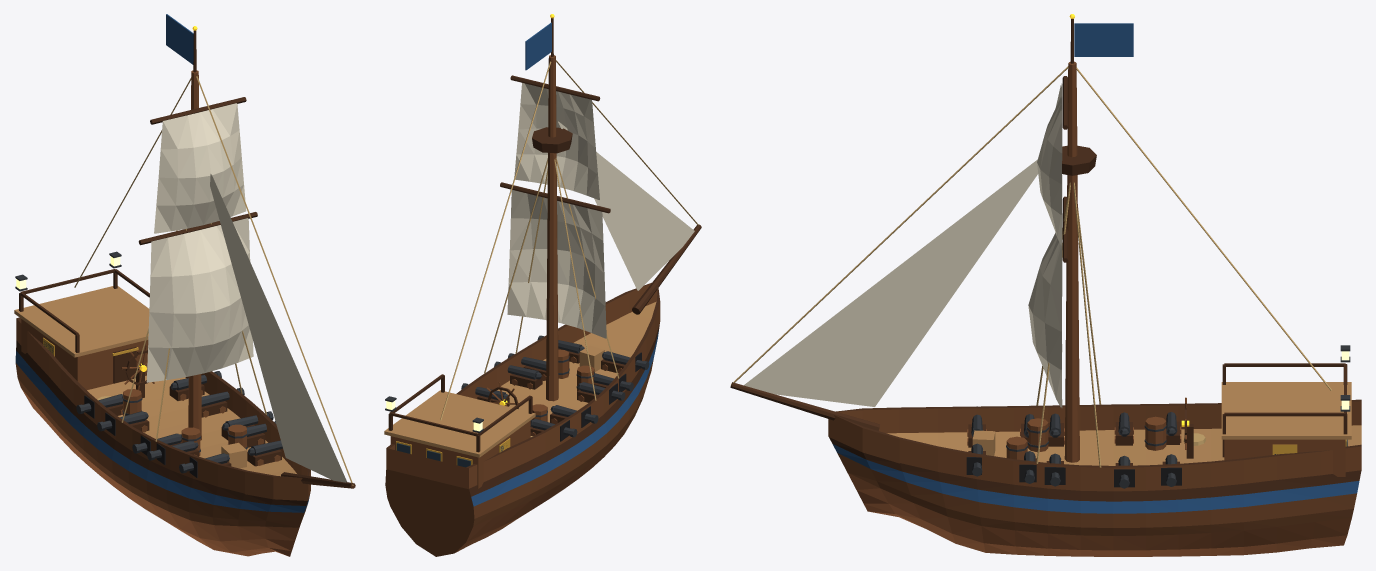
File: Ship_Player.fbx
The picture shows the model from 3 angles, left to right: view 1: azimuth 30°, elevation 25°; view 2: azimuth 150°, elevation 25°; view 3: azimuth 270°, elevation 25°; orthographic projection. The views are drawn at different scales.
Parts seen in each view (by area): view 1: Hull, Sail_1_1, Sail_1_2, Sail_Jib, Rigging, Flag, CannonGun_L_5, CannonGun_R_2, CannonGun_L_2, CannonGun_R_1, CannonGun_L_1, CannonGun_R_4 (+3 smaller); view 2: Hull, Sail_1_1, Rigging, Sail_Jib, Sail_1_2, Flag, CannonGun_L_3, CannonGun_R_5, CannonGun_R_3, CannonGun_R_2, CannonGun_R_1, CannonGun_R_4; view 3: Hull, Sail_Jib, Rigging, Sail_1_1, Sail_1_2, Flag.
Part boxes in pixels (x1,y1,x2,y2): Hull: (14, 251, 310, 556); Sail_1_1: (146, 218, 253, 382); Sail_1_2: (154, 103, 246, 233); Sail_Jib: (210, 174, 346, 482); Rigging: (74, 70, 355, 488); Flag: (166, 14, 197, 72); CannonGun_L_5: (247, 440, 282, 466); CannonGun_R_2: (97, 411, 149, 435); CannonGun_L_2: (201, 387, 244, 417); CannonGun_R_1: (76, 394, 122, 418); CannonGun_L_1: (169, 371, 221, 400); CannonGun_R_4: (147, 441, 198, 464); Hull: (384, 282, 660, 556); Sail_1_1: (507, 190, 606, 338); Rigging: (440, 55, 701, 420); Sail_Jib: (558, 121, 694, 290); Sail_1_2: (514, 83, 599, 199); Flag: (525, 14, 554, 70); CannonGun_L_3: (494, 361, 542, 389); CannonGun_R_5: (601, 351, 649, 373); CannonGun_R_3: (577, 382, 625, 404); CannonGun_R_2: (550, 405, 598, 427); CannonGun_R_1: (530, 419, 577, 441); CannonGun_R_4: (593, 373, 633, 391); Hull: (828, 345, 1361, 556); Sail_Jib: (744, 159, 1038, 406); Rigging: (730, 61, 1331, 467); Sail_1_1: (1028, 213, 1062, 407); Sail_1_2: (1037, 83, 1062, 245); Flag: (1069, 14, 1133, 63).
Size of the model in its own units: 5.08 by 16.96 by 18.03.
